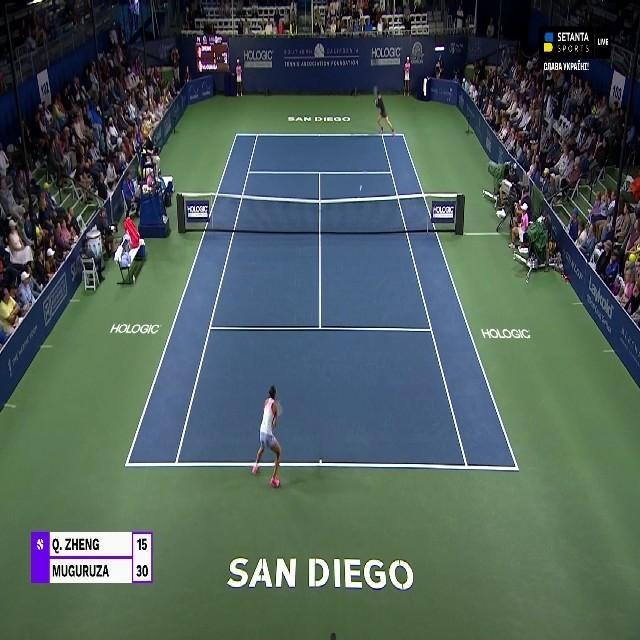left side: (382, 135, 517, 469), (125, 135, 258, 466)
player: (250, 384, 286, 488), (374, 92, 394, 134)
